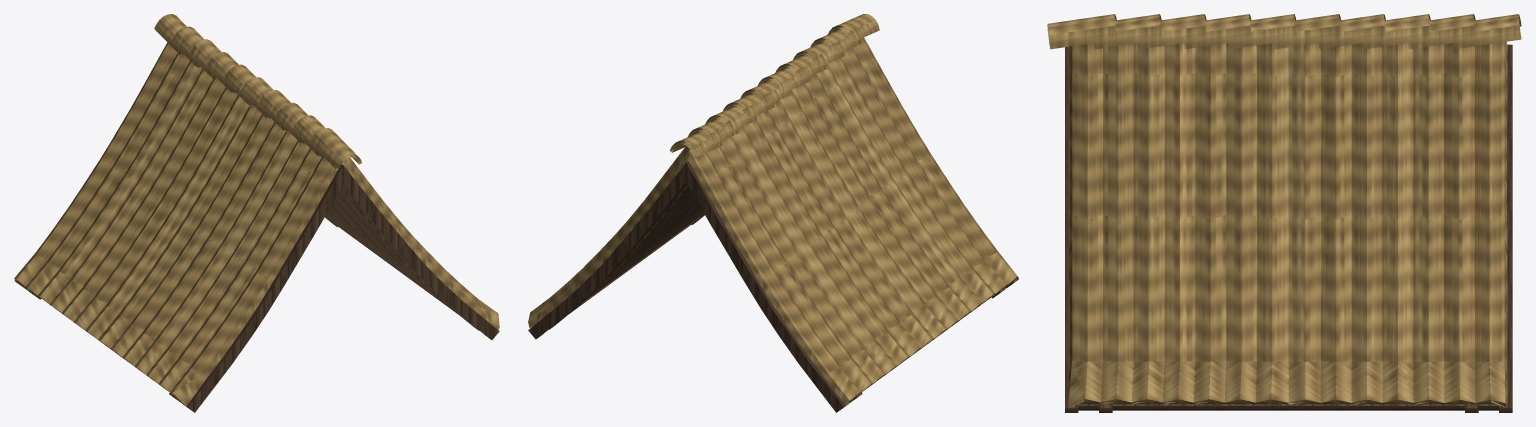
Rendered from Roof_Thatch_6x6.gltf.
3 views of the same model, side by side, from view 1: azimuth 30°, elevation 25°; view 2: azimuth 150°, elevation 25°; view 3: azimuth 270°, elevation 25° (orthographic). The views are drawn at different scales.
Visible parts, largest first — view 1: Roof_Thatch_6x6; view 2: Roof_Thatch_6x6; view 3: Roof_Thatch_6x6.
Part boxes in pixels (x1,y1,x2,y2): Roof_Thatch_6x6: [14, 14, 499, 412]; Roof_Thatch_6x6: [528, 14, 1018, 412]; Roof_Thatch_6x6: [1047, 14, 1521, 412].
Bounding box in the file's own units: 8.25 × 5.67 × 8.03.
2 materials, 2 textured.
